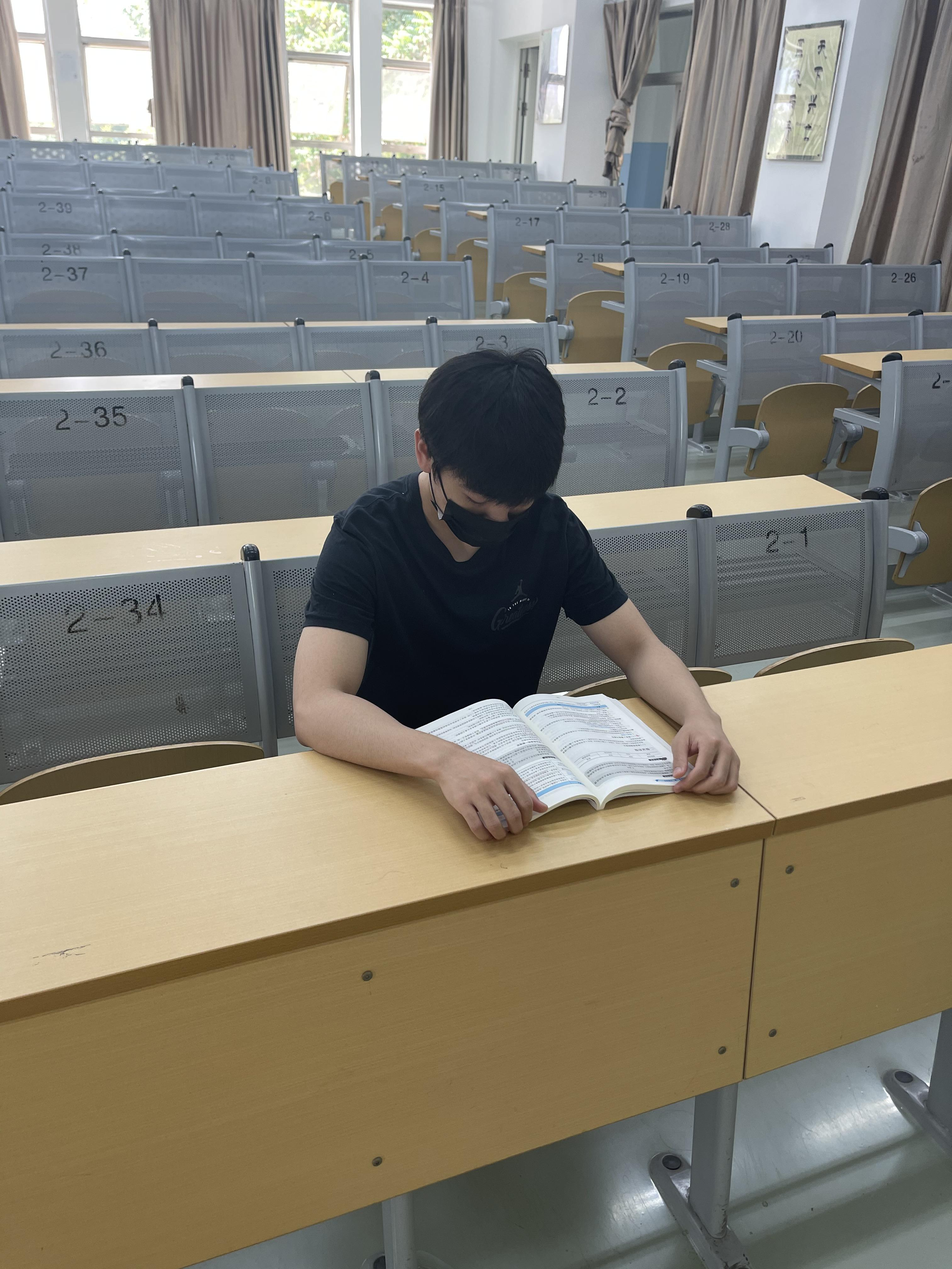study: (290, 352, 740, 836)
